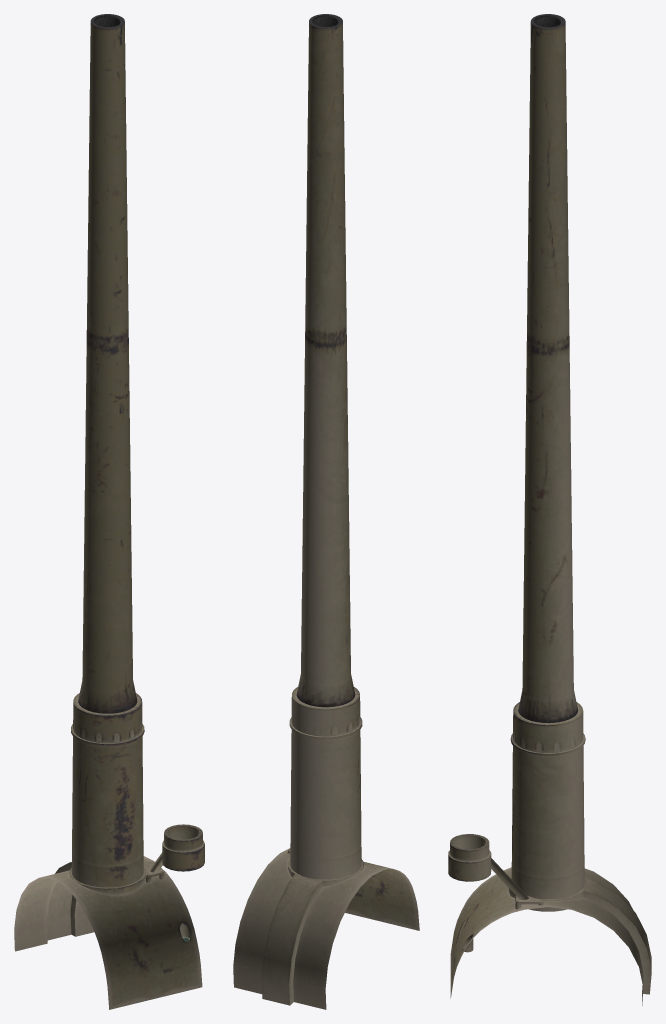
File: Gun_01.glb
3 views of the same model, side by side, from view 1: azimuth 30°, elevation 25°; view 2: azimuth 150°, elevation 25°; view 3: azimuth 270°, elevation 25° (orthographic). The views are drawn at different scales.
Visible parts, largest first — view 1: set_0_group_0; view 2: set_0_group_0; view 3: set_0_group_0.
Part boxes in pixels (x1=…): set_0_group_0: x1=14, y1=14, x2=204, y2=1009; set_0_group_0: x1=233, y1=14, x2=419, y2=1009; set_0_group_0: x1=448, y1=14, x2=651, y2=1005.
Bounding box in the file's own units: 0.7151 × 6.39 × 1.22.
Materials: 1 (1 with a texture image).
